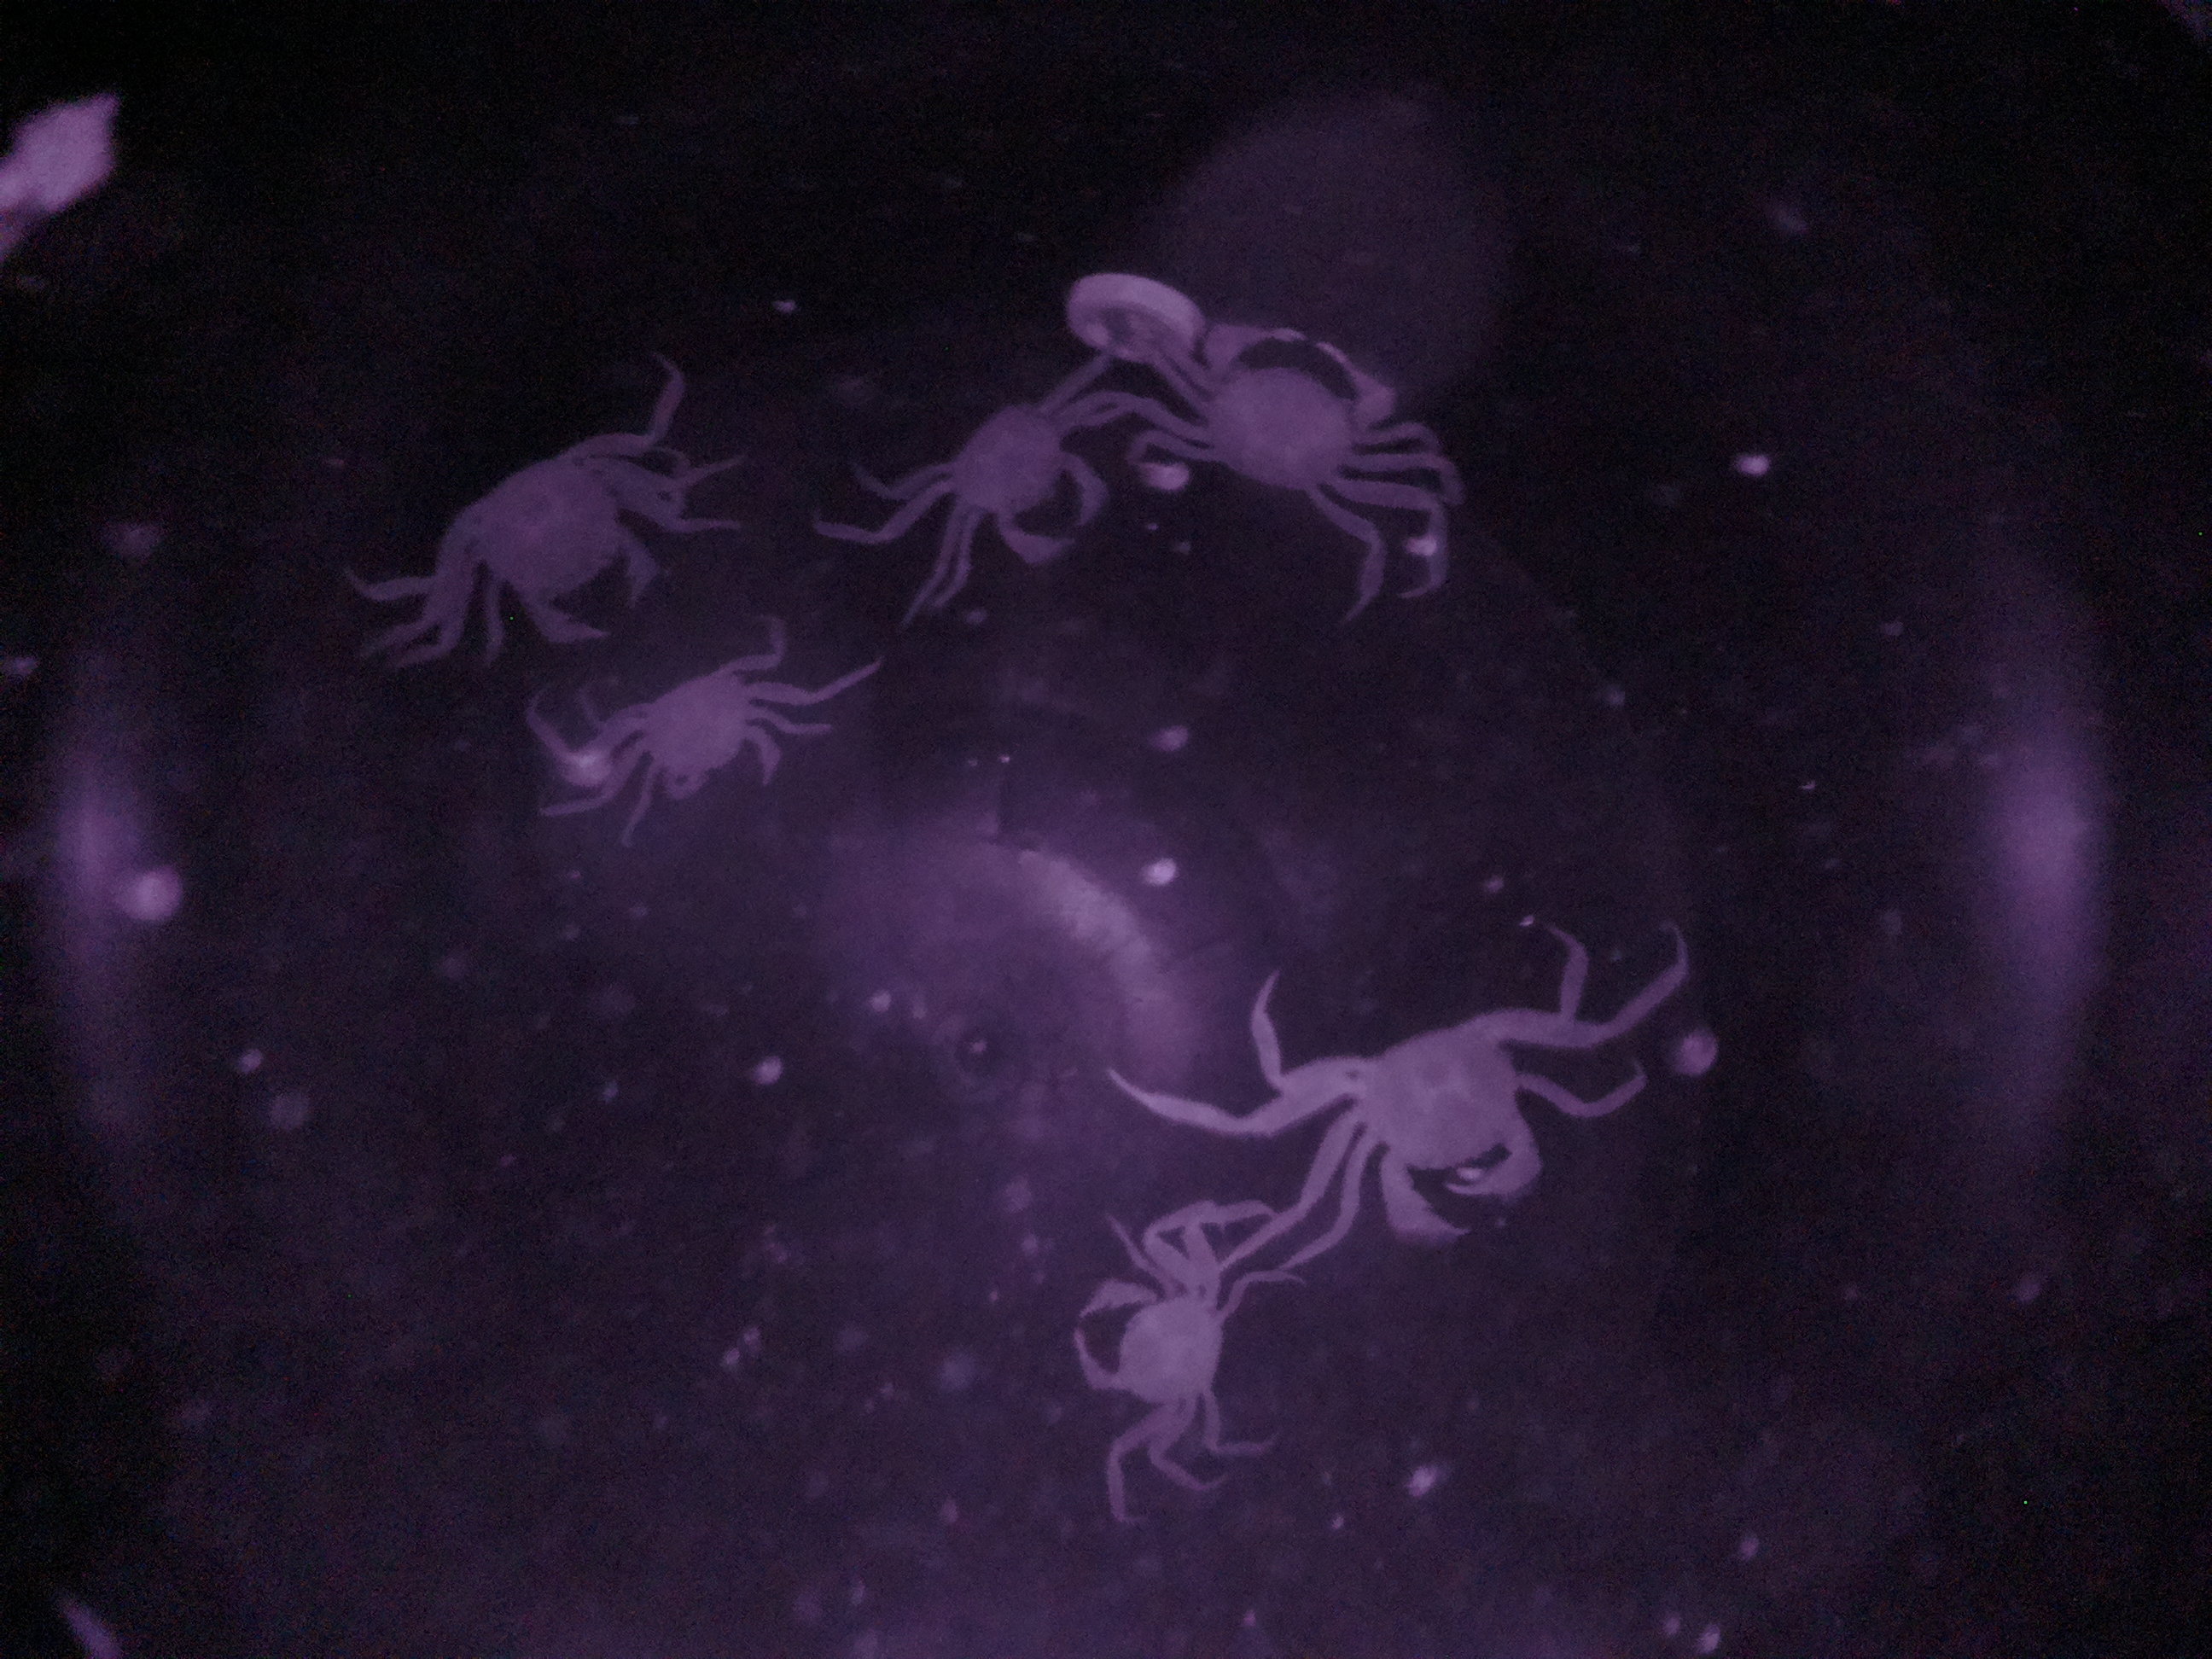Crab: (1306, 995, 1564, 1255), (423, 432, 662, 647), (1160, 315, 1413, 516), (911, 380, 1122, 580), (1061, 1234, 1252, 1453), (594, 645, 789, 814)
